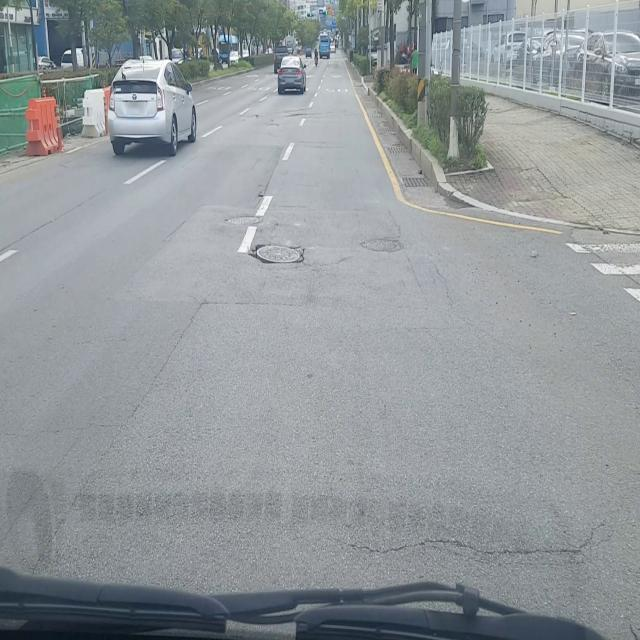Pothole: (247, 242, 306, 265)
